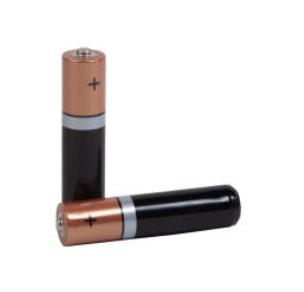Battery: (57, 186, 241, 246), (62, 48, 106, 203)
